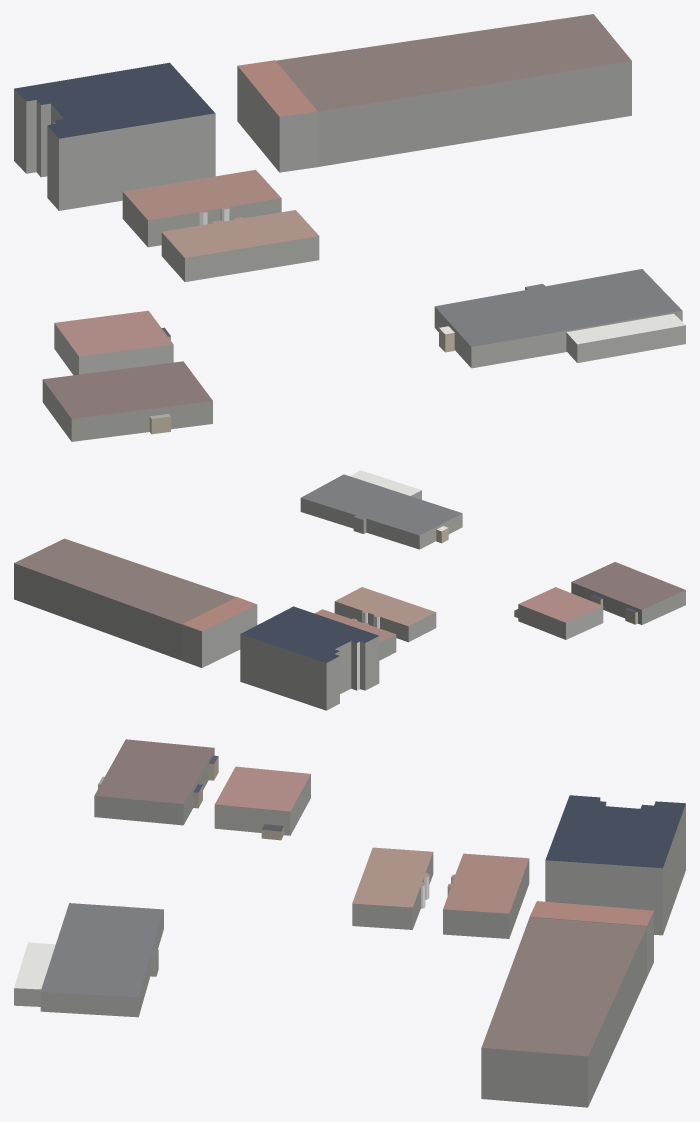
3 views of the same model, one above another, from view 1: azimuth 30°, elevation 25°; view 2: azimuth 150°, elevation 25°; view 3: azimuth 270°, elevation 25° (orthographic). The views are drawn at different scales.
Visible parts, largest first — view 1: tuile; view 2: tuile; view 3: tuile.
Part boxes in pixels (bbox=[...]): tuile: bbox=[14, 14, 685, 441]; tuile: bbox=[14, 470, 685, 710]; tuile: bbox=[14, 739, 685, 1107].
Size of the model in its own units: 306 by 28.25 by 248.
